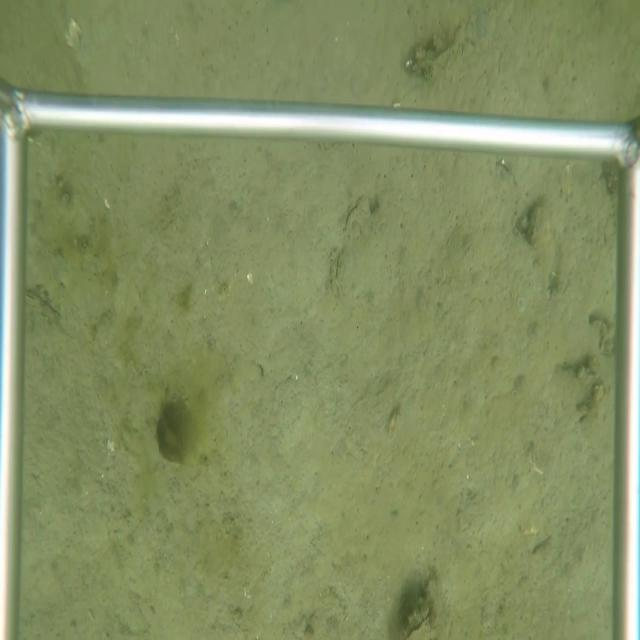Oyster-Closed: (329, 243, 347, 301), (402, 609, 435, 637), (342, 200, 362, 234)
